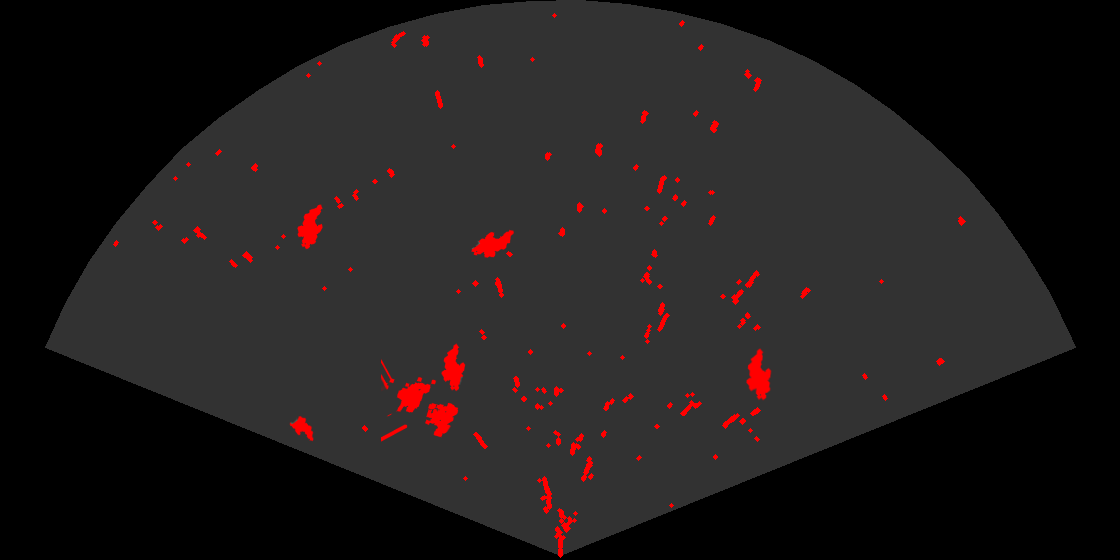AUV: (745, 347, 773, 402), (470, 228, 516, 259), (440, 342, 467, 393), (296, 203, 324, 251), (288, 414, 315, 443)
cage: (381, 358, 460, 443)
